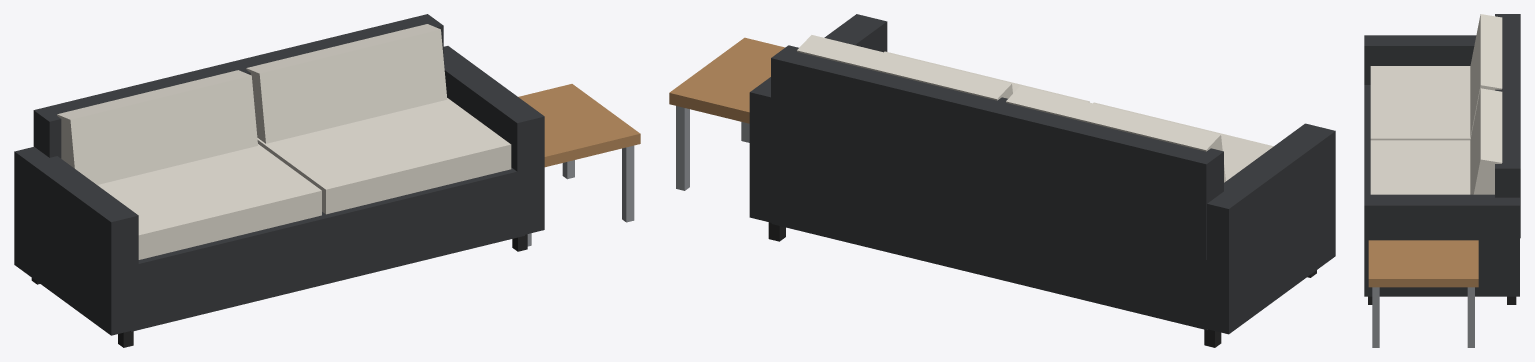
The picture shows the model from 3 angles, left to right: view 1: azimuth 30°, elevation 25°; view 2: azimuth 150°, elevation 25°; view 3: azimuth 270°, elevation 25°; orthographic projection. The views are drawn at different scales.
Parts seen in each view (by area): view 1: box-cushion (×4), box-primary (×4), box-wood, box-metal; view 2: box-primary (×4), box-cushion (×3), box-wood, box-metal; view 3: box-primary (×4), box-cushion (×4), box-wood, box-metal (×2).
Part boxes in pixels (x1,y1,x2,y2): box-cushion (×4): [57, 24, 511, 259]; box-primary (×4): [14, 14, 544, 335]; box-wood: [518, 84, 640, 167]; box-metal: [622, 145, 634, 222]; box-primary (×4): [749, 14, 1335, 334]; box-cushion (×3): [797, 35, 1273, 182]; box-wood: [669, 37, 784, 123]; box-metal: [676, 106, 689, 190]; box-primary (×4): [1364, 14, 1520, 296]; box-cushion (×4): [1370, 14, 1502, 194]; box-wood: [1368, 240, 1478, 287]; box-metal (×2): [1372, 287, 1474, 347].
Size of the model in its own units: 2.7 by 0.8378 by 0.855.
